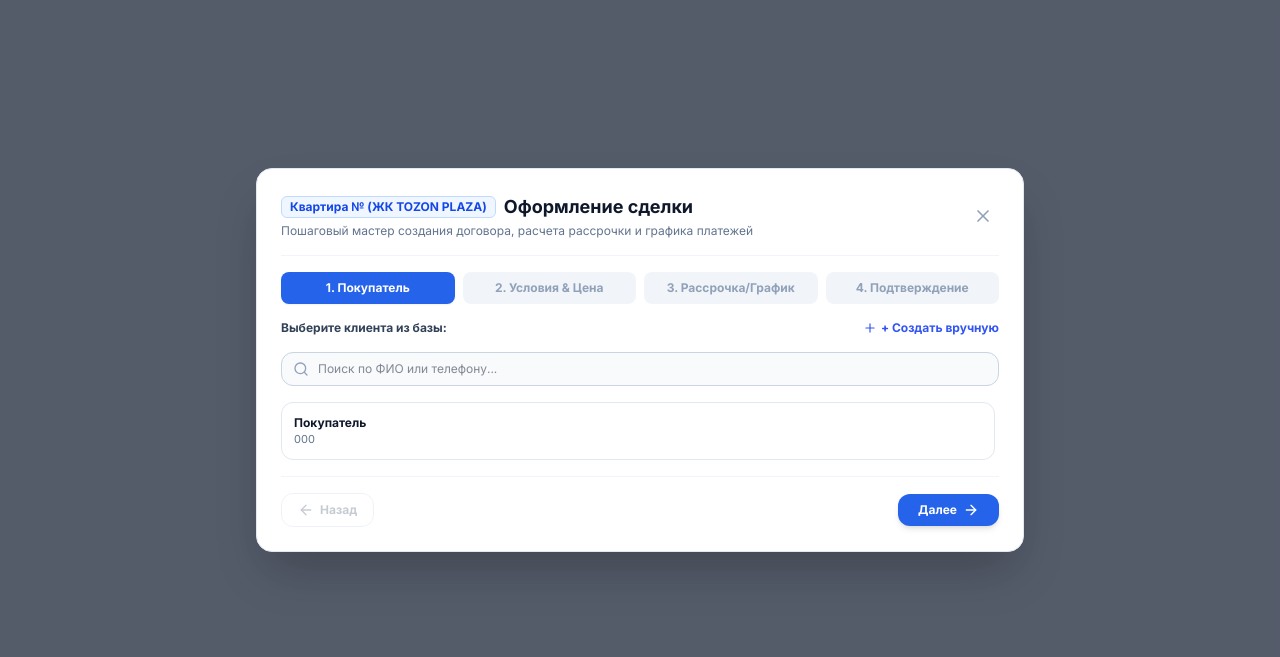
opens apartments at inventory price instead of the old calculator price
What coordinates should you click on to do the following:
click the text "Покупатель"
I would click on:
 (330, 423)
Its box is [294,415,366,431].
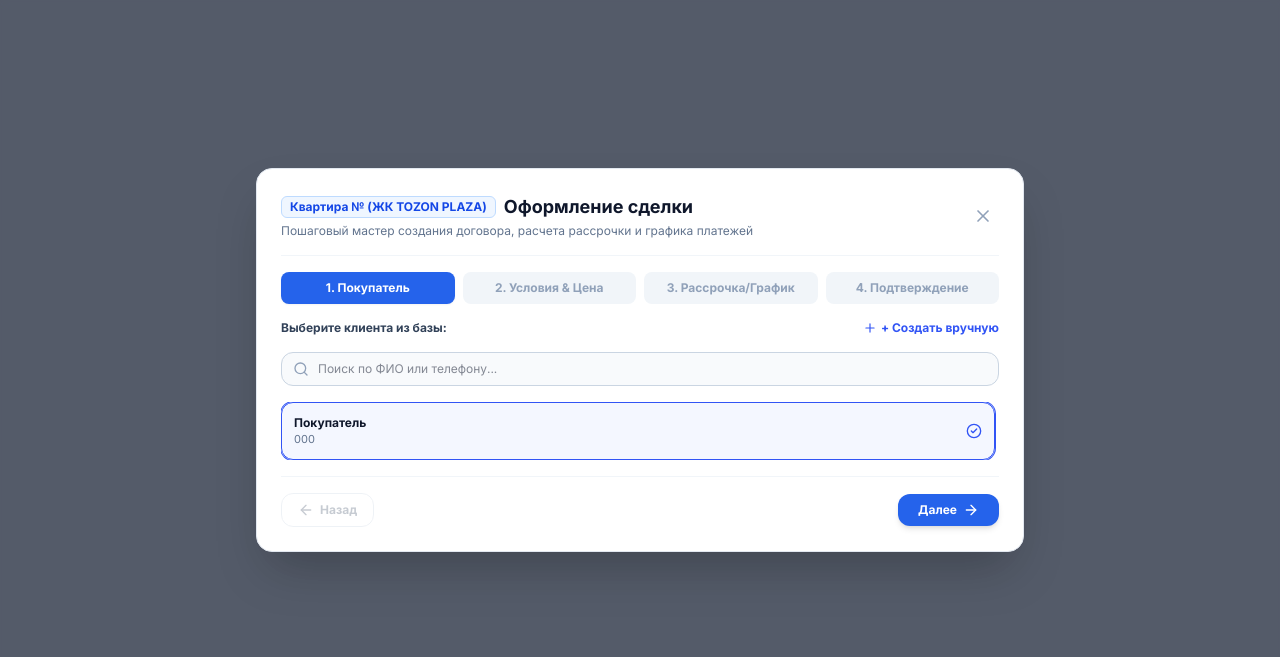
What coordinates should you click on to do the following:
click the button "Далее"
I would click on:
 (949, 510)
Its box is [898,494,999,526].
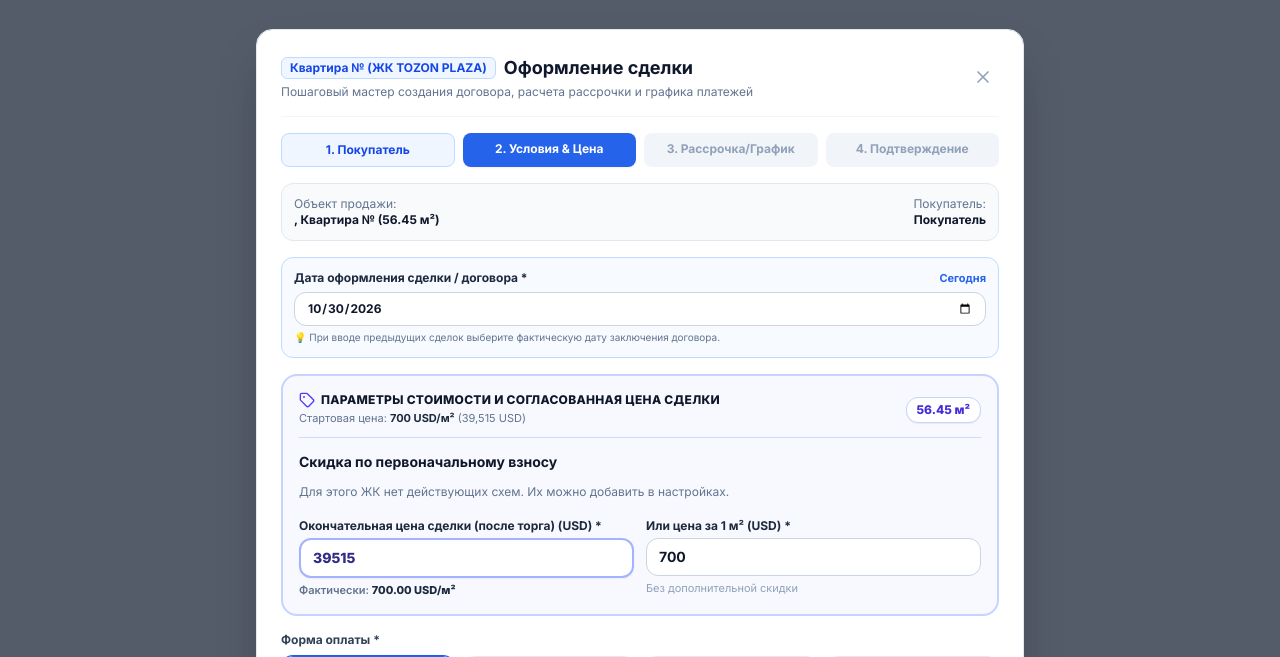
Expected: the number field named "Цена объекта за м²" holds "700", [646,538,981,576]
Expected: the number field named "Окончательная стоимость объекта" holds "39515", [299,538,634,578]
